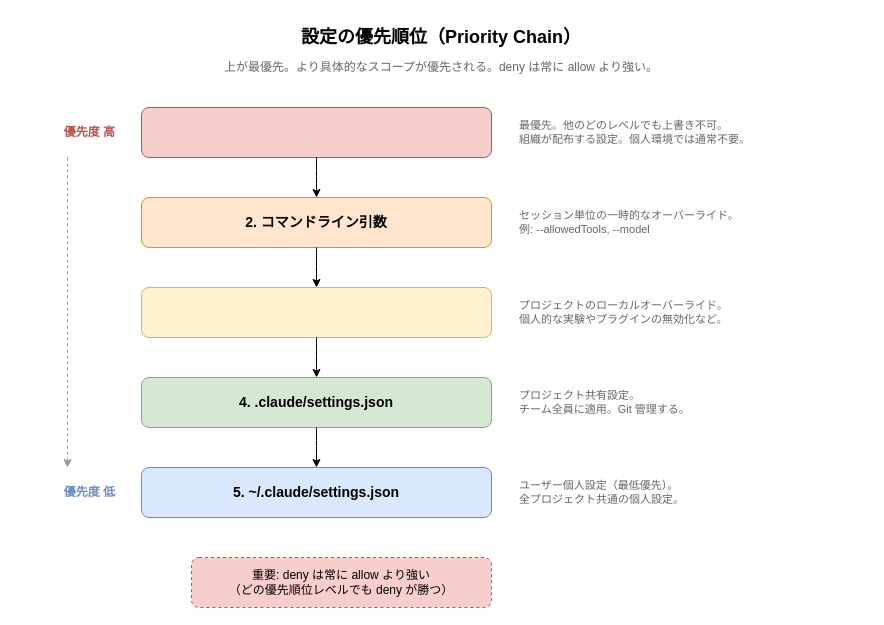
This 884x625 diagram has some shape labels left out. The centre of each missing label's shape, as x and y in pixels:
"1. Managed（企業管理設定）" goes at (316,132).
"3. .claude/settings.local.json" goes at (316,312).
